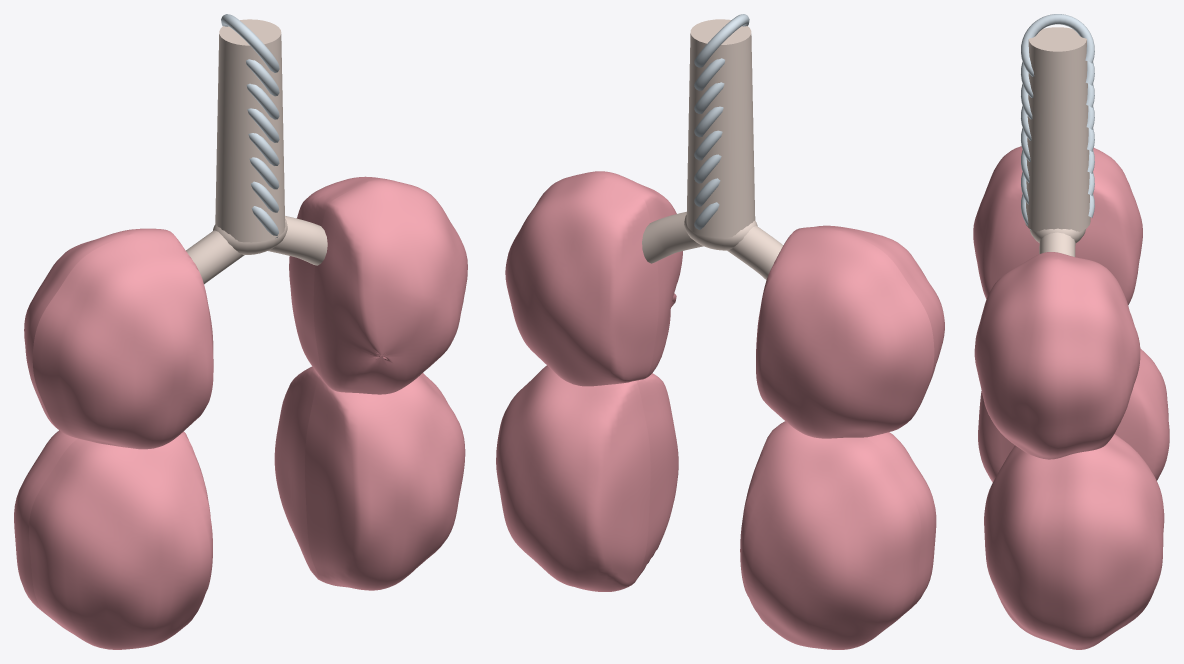
Rendered from lungs.glb.
3 views of the same model, side by side, from view 1: azimuth 30°, elevation 25°; view 2: azimuth 150°, elevation 25°; view 3: azimuth 270°, elevation 25° (orthographic). The views are drawn at different scales.
Parts seen in each view (by area): view 1: LobeRInferior, LobeRSuperior, LobeLInferior, LobeLSuperior, Trachea, Airway, BronchusLeft, BronchusRight, Carina; view 2: LobeRInferior, LobeRSuperior, LobeLInferior, LobeLSuperior, Trachea, Airway, BronchusLeft, BronchusRight, Carina; view 3: LobeLInferior, LobeLSuperior, Trachea, LobeRSuperior, LobeRInferior, Airway, BronchusLeft, Carina.
Boxes of the visible parts, left/top/right/bottom form: LobeRInferior: left=14, top=430, right=212, bottom=649; LobeRSuperior: left=24, top=228, right=213, bottom=449; LobeLInferior: left=274, top=366, right=465, bottom=590; LobeLSuperior: left=289, top=176, right=467, bottom=394; Trachea: left=215, top=19, right=285, bottom=242; Airway: left=221, top=14, right=279, bottom=238; BronchusLeft: left=268, top=216, right=327, bottom=265; BronchusRight: left=186, top=230, right=244, bottom=284; Carina: left=213, top=218, right=287, bottom=254; LobeRInferior: left=740, top=421, right=936, bottom=649; LobeRSuperior: left=756, top=225, right=944, bottom=438; LobeLInferior: left=496, top=365, right=678, bottom=591; LobeLSuperior: left=505, top=171, right=682, bottom=386; Trachea: left=686, top=19, right=755, bottom=238; Airway: left=694, top=14, right=749, bottom=229; BronchusLeft: left=642, top=211, right=703, bottom=263; BronchusRight: left=727, top=226, right=783, bottom=279; Carina: left=684, top=215, right=757, bottom=250; LobeLInferior: left=984, top=434, right=1164, bottom=649; LobeLSuperior: left=974, top=252, right=1140, bottom=459; Trachea: left=1025, top=27, right=1090, bottom=231; LobeRSuperior: left=973, top=146, right=1142, bottom=304; LobeRInferior: left=978, top=348, right=1169, bottom=482; Airway: left=1021, top=14, right=1094, bottom=229; BronchusLeft: left=1039, top=232, right=1075, bottom=256; Carina: left=1029, top=228, right=1085, bottom=242.
Bounding box in the file's own units: 8.73 × 11.78 × 3.71.
